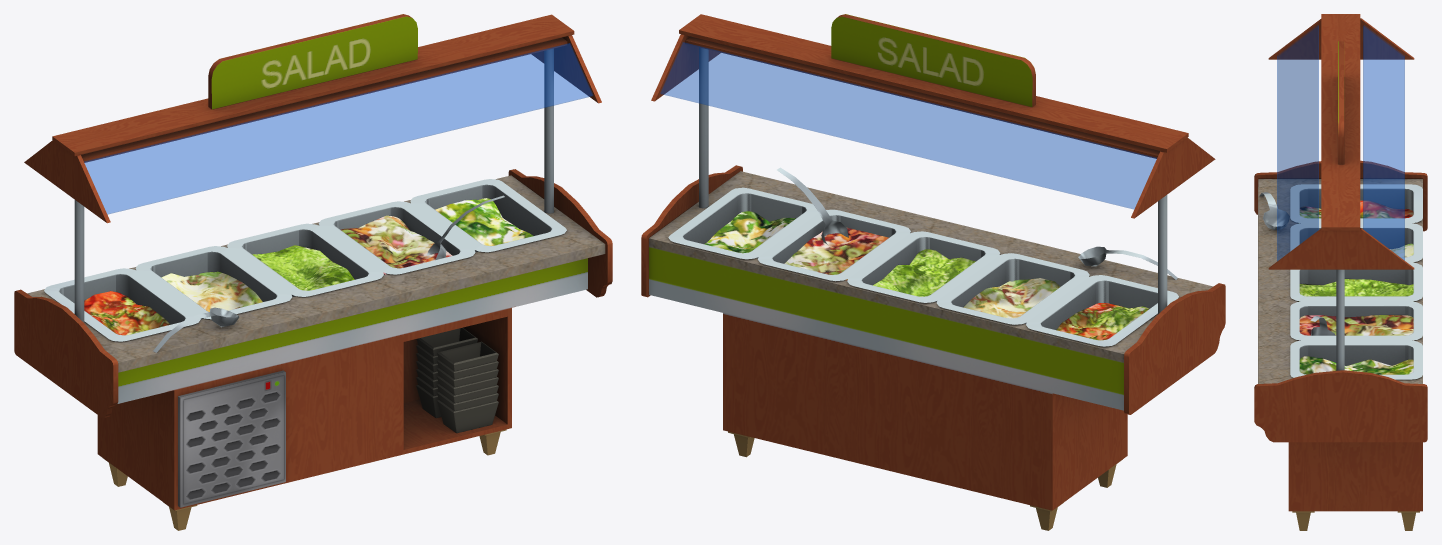
File: interior_display_stand_salad_001_gr_mesh.FBX
The picture shows the model from 3 angles, left to right: view 1: azimuth 30°, elevation 25°; view 2: azimuth 150°, elevation 25°; view 3: azimuth 270°, elevation 25°; orthographic projection. The views are drawn at different scales.
Visible parts, largest first — view 1: interior_display_stand_salad_001_gr; view 2: interior_display_stand_salad_001_gr; view 3: interior_display_stand_salad_001_gr.
Boxes of the visible parts, x1=… form: interior_display_stand_salad_001_gr: x1=14, y1=14, x2=612, y2=530; interior_display_stand_salad_001_gr: x1=641, y1=14, x2=1225, y2=530; interior_display_stand_salad_001_gr: x1=1254, y1=14, x2=1427, y2=530.
Bounding box in the file's own units: 29.36 × 24.54 × 10.08.
